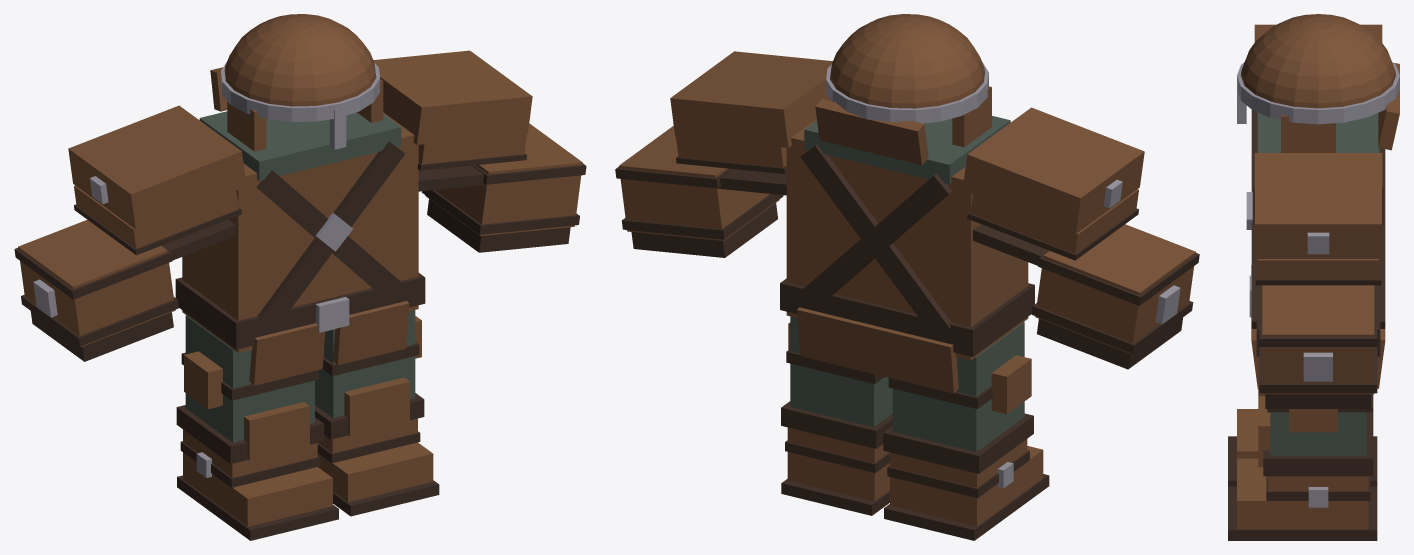
File: ProwlerArmorSet.ready.glb
The picture shows the model from 3 angles, left to right: view 1: azimuth 30°, elevation 25°; view 2: azimuth 150°, elevation 25°; view 3: azimuth 270°, elevation 25°; orthographic projection. The views are drawn at different scales.
Visible parts, largest first — view 1: Chestplate, RightUpperArm, Helmet, RightLowerArm, LeftUpperArm, RightBoots, LeftLowerArm, RightLeggings, LeftBoots, LeftLeggings; view 2: Chestplate, RightUpperArm, Helmet, RightLowerArm, LeftUpperArm, RightBoots, LeftLowerArm, RightLeggings, LeftBoots, LeftLeggings; view 3: LeftUpperArm, Helmet, LeftLowerArm, LeftBoots, Chestplate, LeftLeggings, RightBoots, RightUpperArm.
Part boxes in pixels (box(x1,y1,x2,y2)): Chestplate: box(175, 111, 425, 385); RightUpperArm: box(68, 105, 246, 260); Helmet: box(210, 14, 383, 151); RightLowerArm: box(14, 219, 178, 361); LeftUpperArm: box(373, 50, 532, 191); RightBoots: box(176, 405, 338, 540); LeftLowerArm: box(421, 123, 586, 252); RightLeggings: box(181, 315, 318, 460); LeftBoots: box(315, 393, 439, 516); LeftLeggings: box(315, 310, 421, 436); Chestplate: box(780, 116, 1034, 393); RightUpperArm: box(962, 107, 1144, 265); Helmet: box(815, 14, 991, 165); RightLowerArm: box(1031, 224, 1199, 369); LeftUpperArm: box(670, 51, 832, 195); RightBoots: box(883, 413, 1049, 540); LeftLowerArm: box(615, 126, 783, 257); RightLeggings: box(888, 322, 1031, 451); LeftBoots: box(781, 401, 892, 515); LeftLeggings: box(786, 316, 892, 426); LeftUpperArm: box(1254, 153, 1382, 285); Helmet: box(1237, 14, 1399, 152); LeftLowerArm: box(1259, 285, 1377, 408); LeftBoots: box(1228, 412, 1377, 540); Chestplate: box(1246, 110, 1385, 389); LeftLeggings: box(1258, 396, 1369, 467); RightBoots: box(1228, 394, 1377, 486); RightUpperArm: box(1254, 24, 1382, 42).
Bounding box in the file's own units: 6.22 × 5.3 × 1.75.
1 material, 1 textured.
